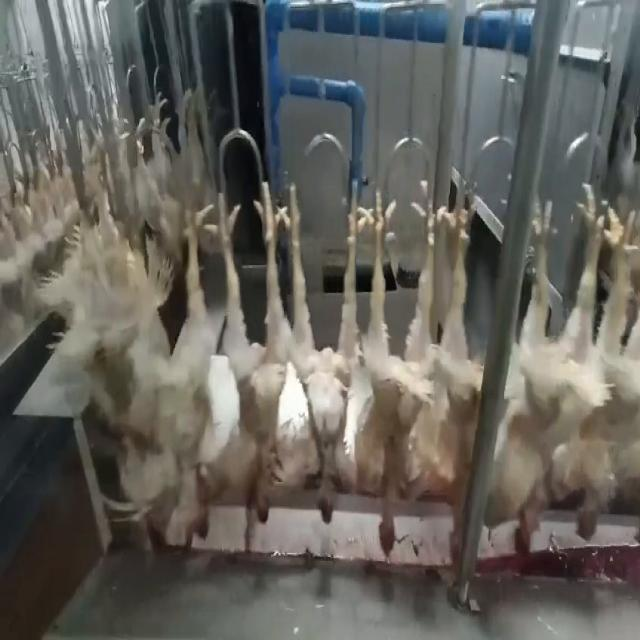chicken: (498, 185, 597, 563), (357, 173, 437, 565), (285, 183, 363, 524), (132, 192, 208, 537), (570, 185, 640, 547), (212, 178, 282, 525), (433, 198, 493, 563)
